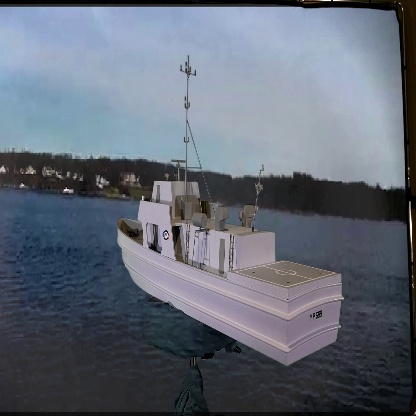YP689: (116, 56, 345, 370)
